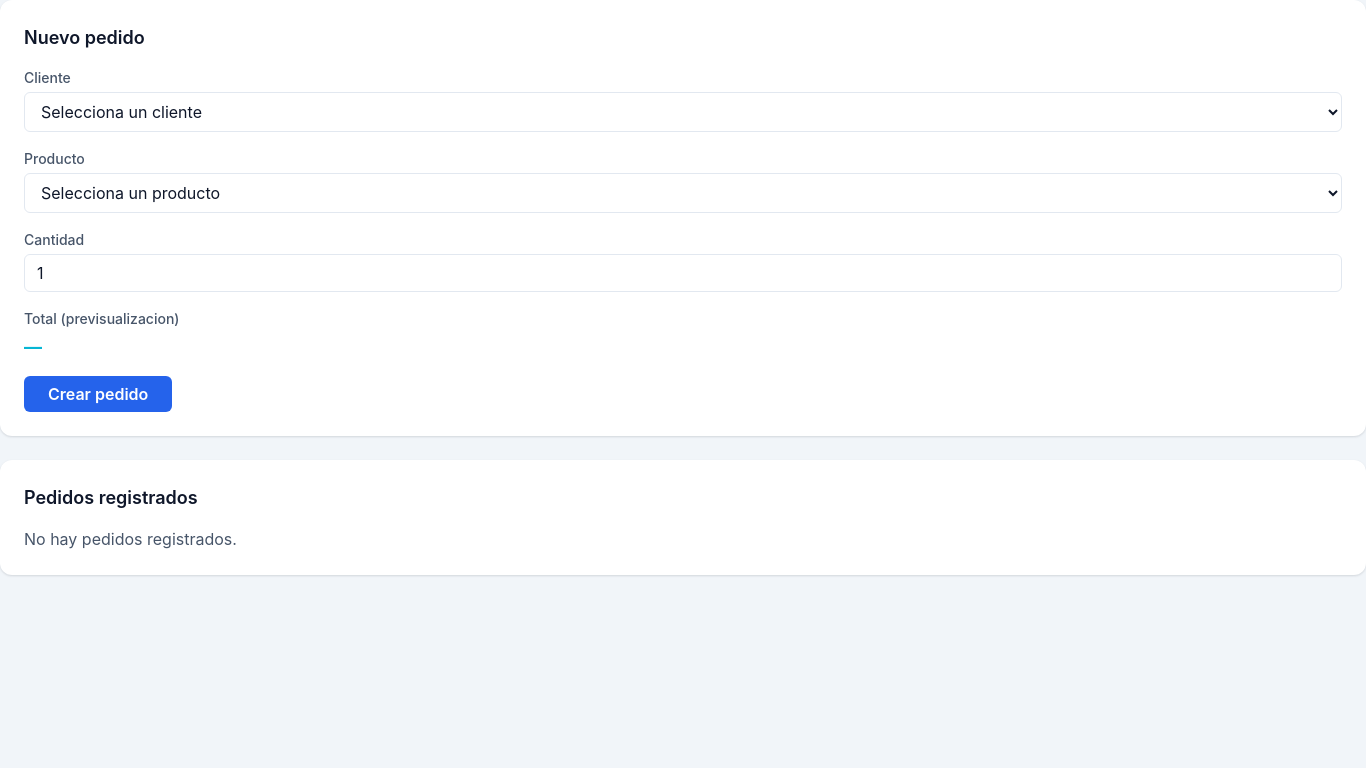
it: Pedidos: previsualizacion del Total (Req. 9.2, 9.3) › recalcula el Total al cambiar el producto seleccionado
This screenshot has width=1366, height=768.
Replace the text in the number field labelled "Cantidad" with "2": (683, 273) [24,254,1342,292]
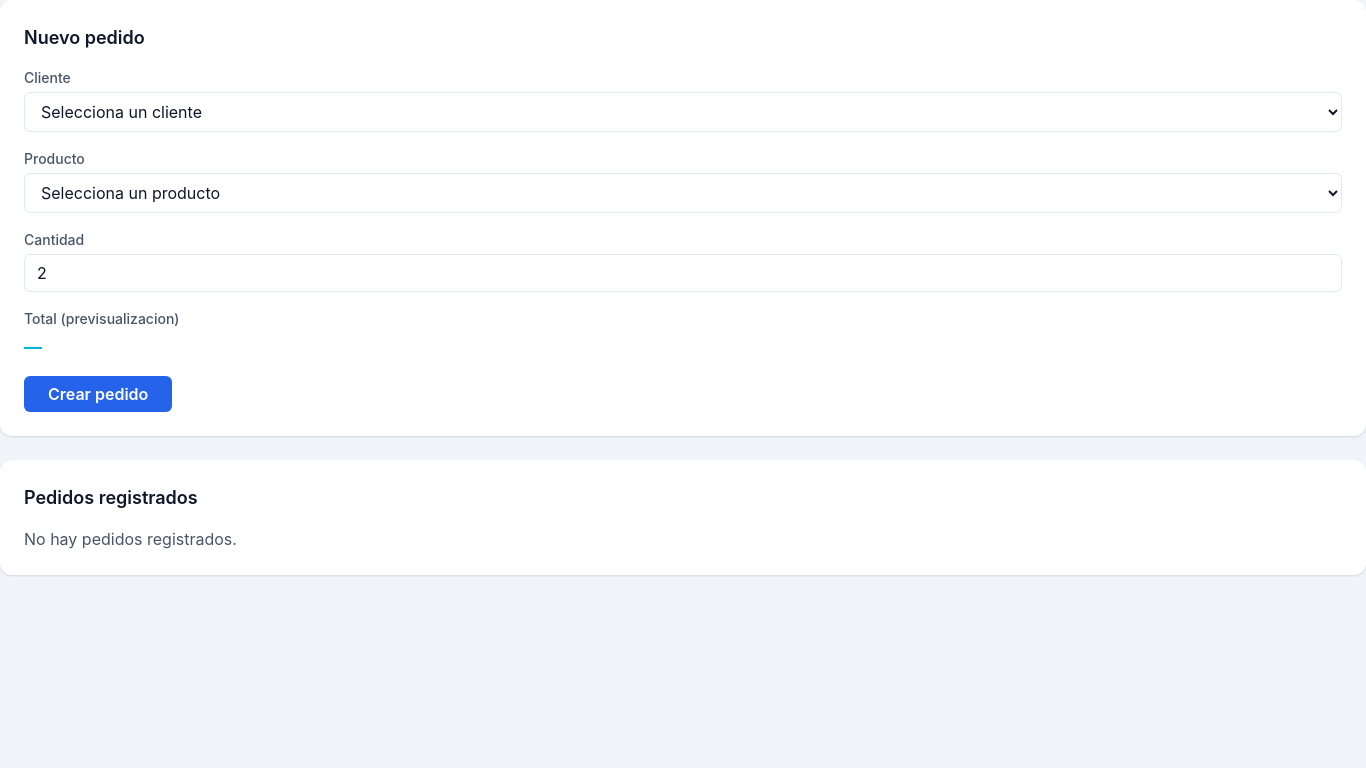
Select "Hamburguesa ($55.00)" in the dropdown labelled "Producto": (683, 193) [24,173,1342,213]
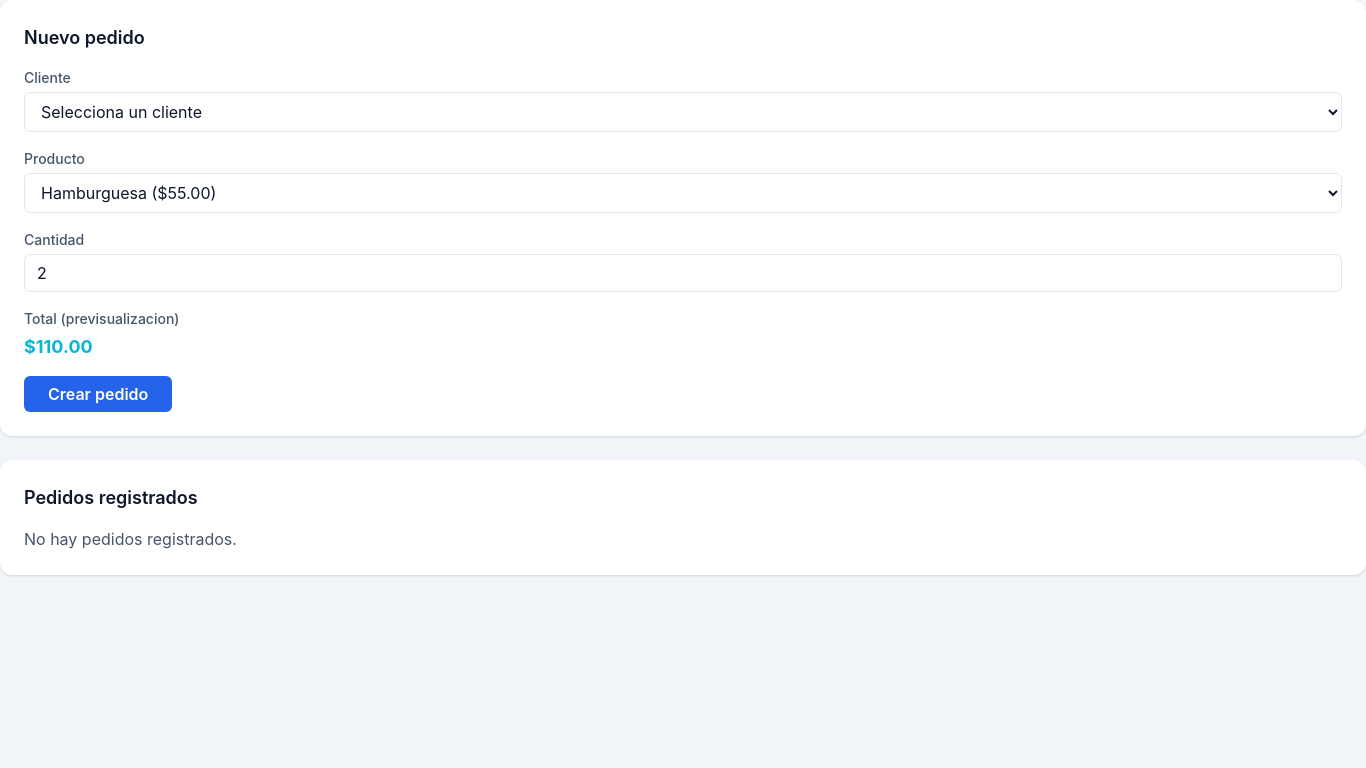
Now the text with test id "total-previsualizado" reads "$110.00", box [24,336,93,357]
Select "Refresco ($20.00)" in the dropdown labelled "Producto": (683, 193) [24,173,1342,213]
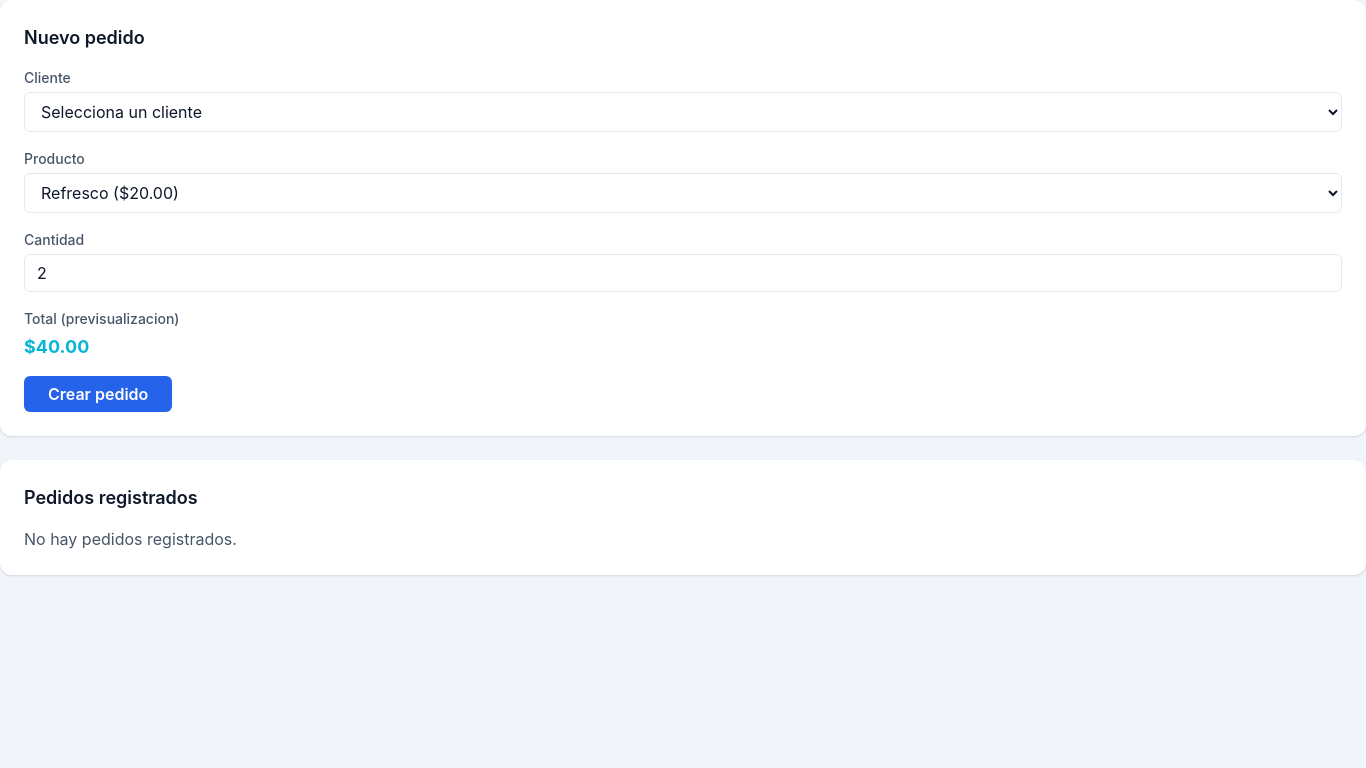
Now the text with test id "total-previsualizado" reads "$40.00", box [24,336,89,357]
